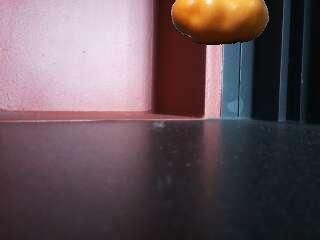Potato: (170, 0, 270, 45)
